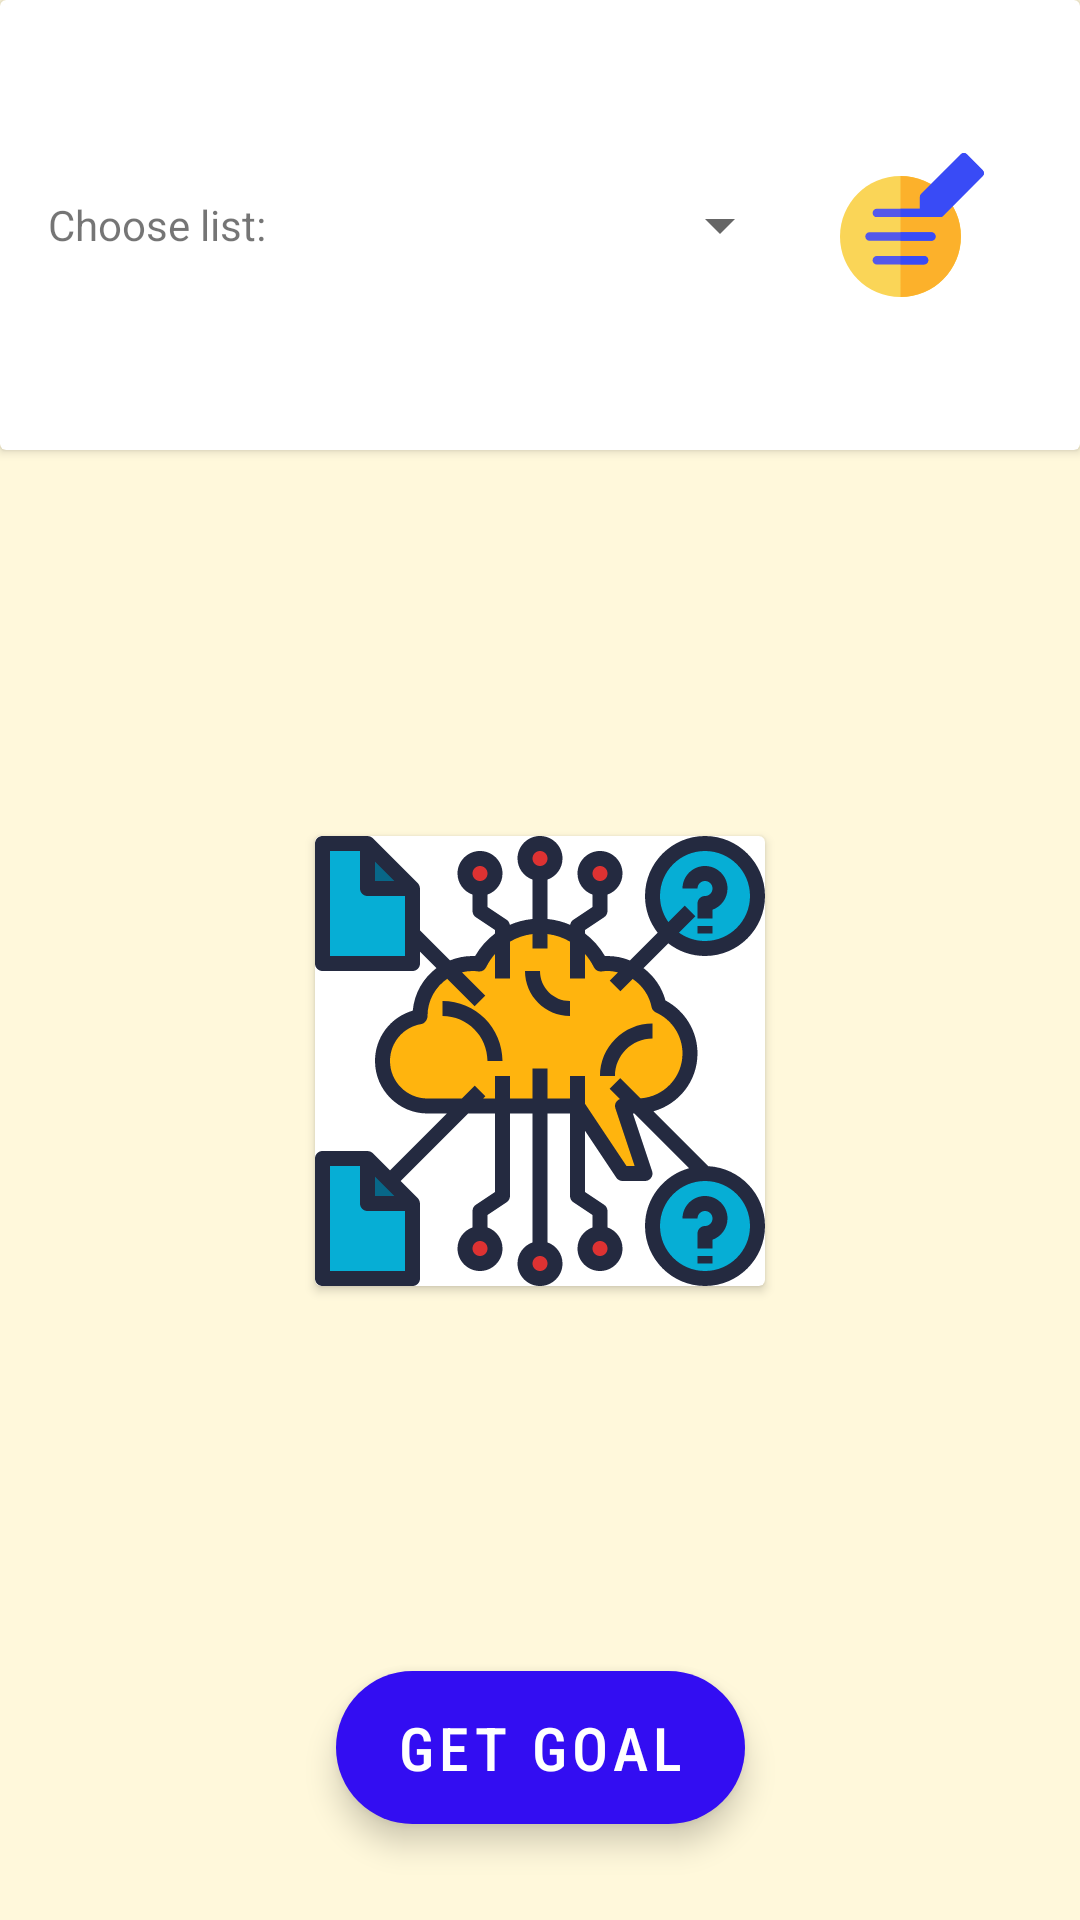

Named icons in this screenshot (1080×1920) and their bounding boxes, (x1, y1, x2, y2):
notepad: (840, 153, 984, 297)
